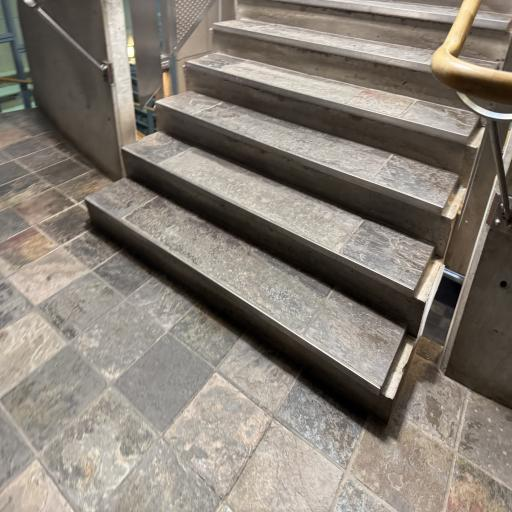Stairs: (86, 0, 510, 420), (86, 178, 414, 420), (123, 93, 438, 335), (125, 89, 463, 256), (186, 53, 483, 174), (213, 20, 499, 108), (237, 0, 512, 62), (266, 0, 512, 32)
